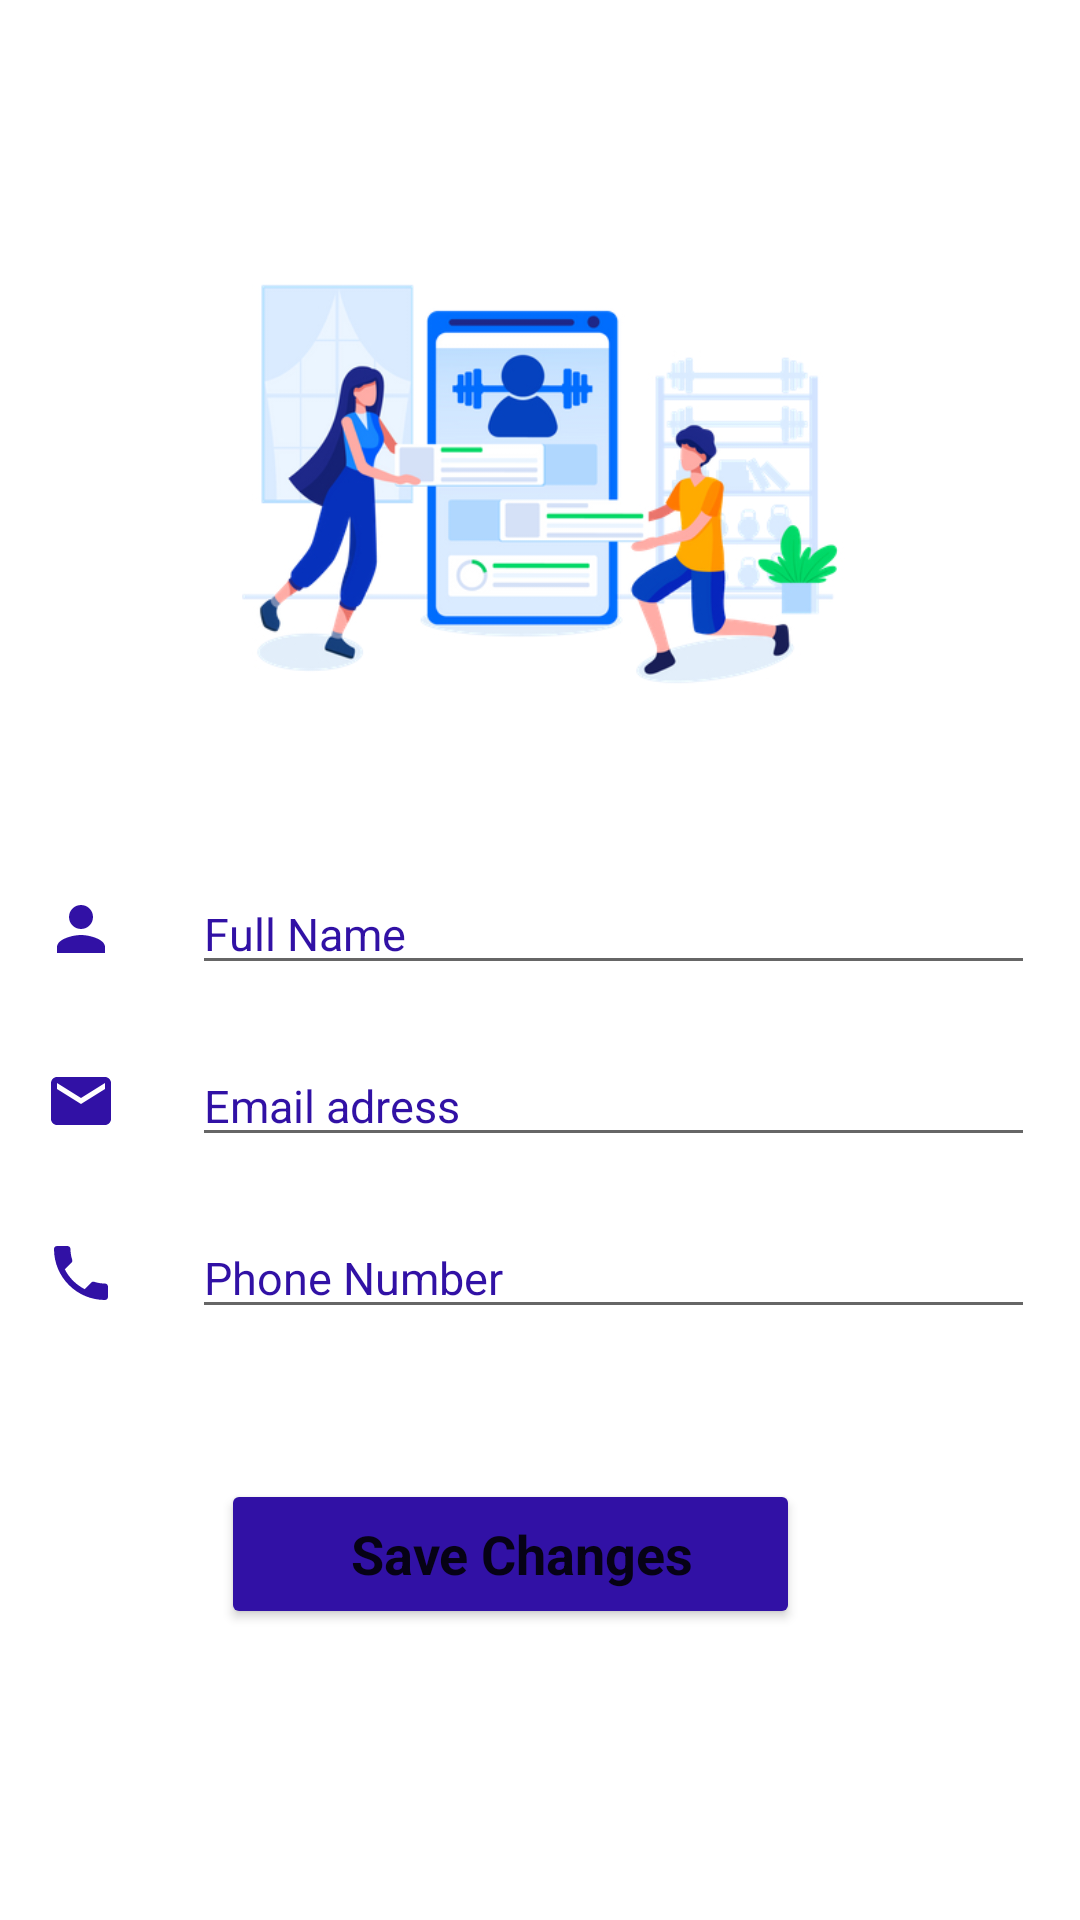

Point at icon controls on the screen. Image size 1080 x 1920, points as (x=x, y=y).
person: (x=81, y=929)
